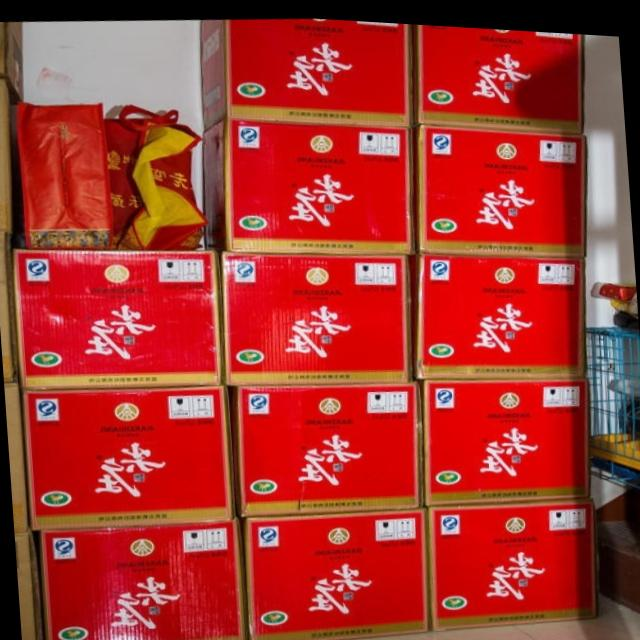box: (19, 383, 235, 531), (13, 247, 225, 388), (201, 114, 415, 250), (229, 376, 425, 514), (38, 515, 248, 640), (221, 247, 414, 383), (242, 502, 429, 640), (199, 15, 414, 129), (425, 490, 599, 626), (414, 118, 586, 250), (420, 369, 592, 501), (406, 247, 586, 373), (410, 19, 583, 126), (4, 384, 31, 533), (14, 530, 45, 640), (0, 77, 18, 244), (0, 233, 19, 384), (0, 23, 25, 101)
